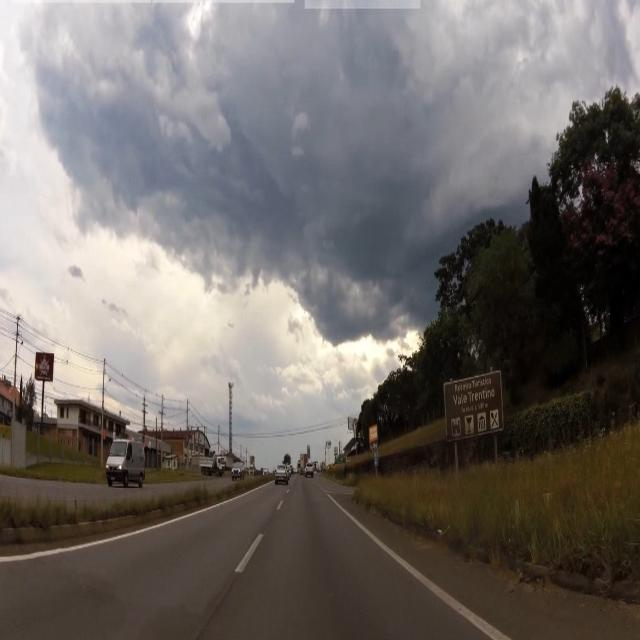TUR-4: (446, 382, 504, 437)
